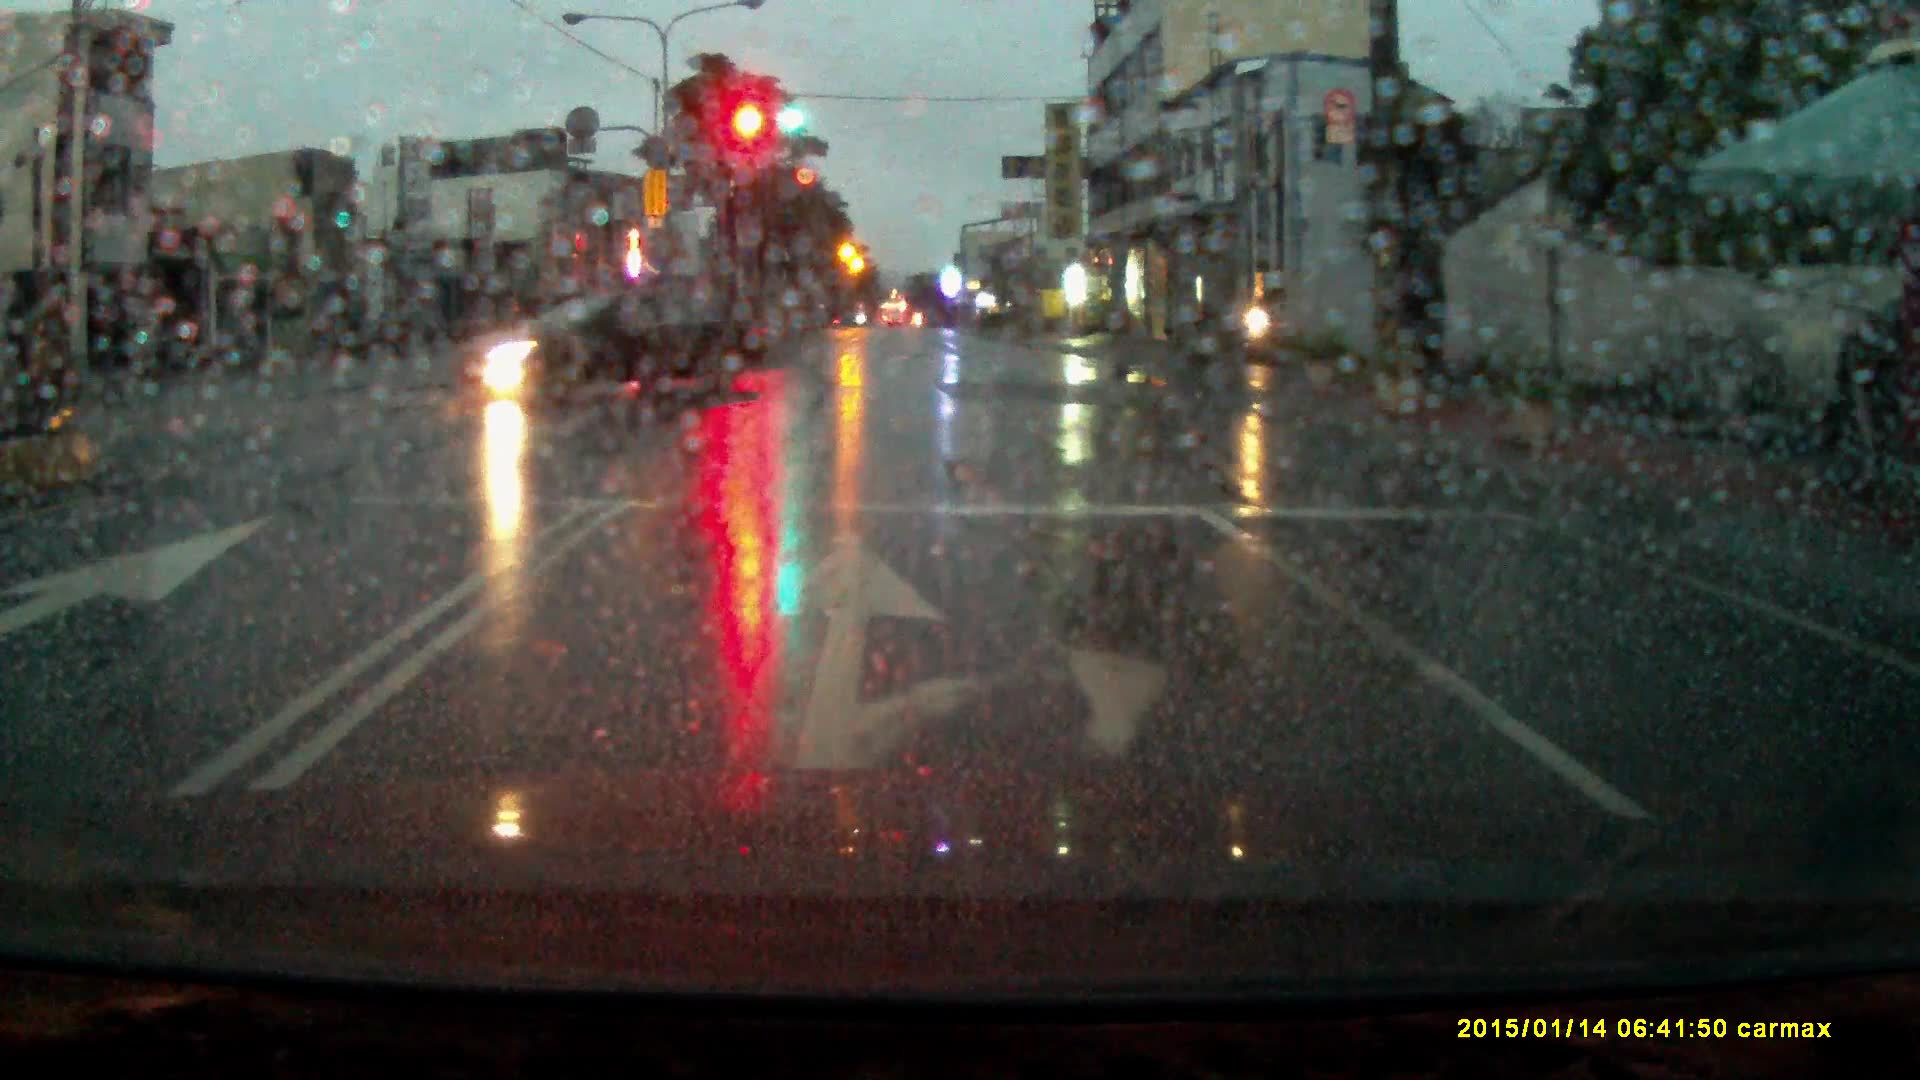rider: (1226, 275, 1303, 375)
vehicle: (443, 289, 770, 399)
